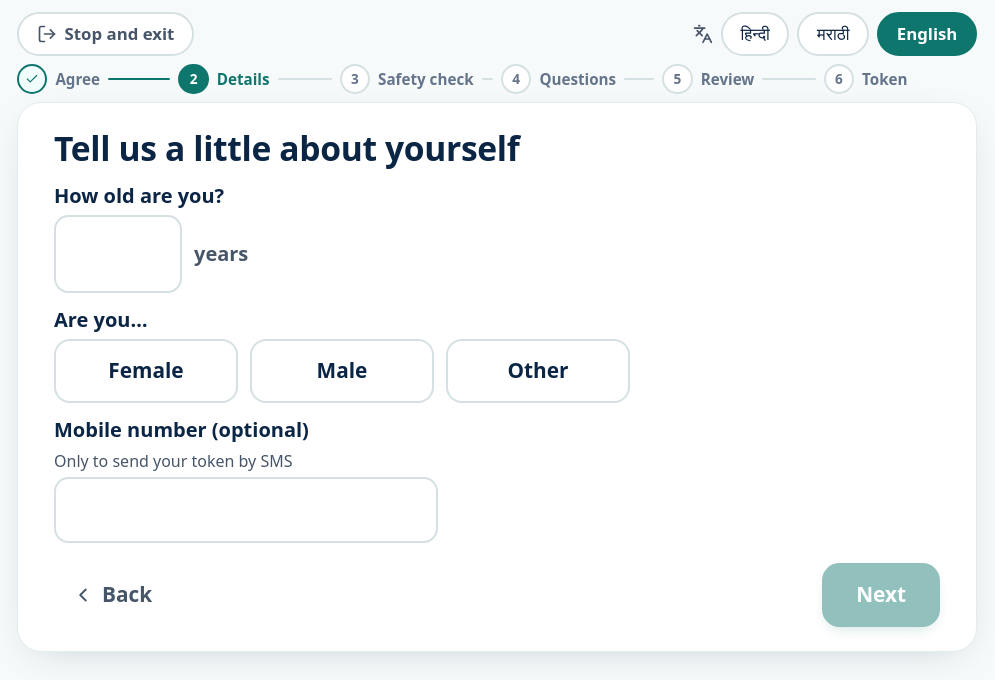
Test: kiosk intake › explains a card that does not match and lets the patient go on without it
The image size is (995, 680).
Type "40" into the number field labelled "How old are you?" at {"x": 118, "y": 254}, box [54,215,182,293]
Click the radio button labelled "Male" at {"x": 342, "y": 371}, box [250,339,434,403]
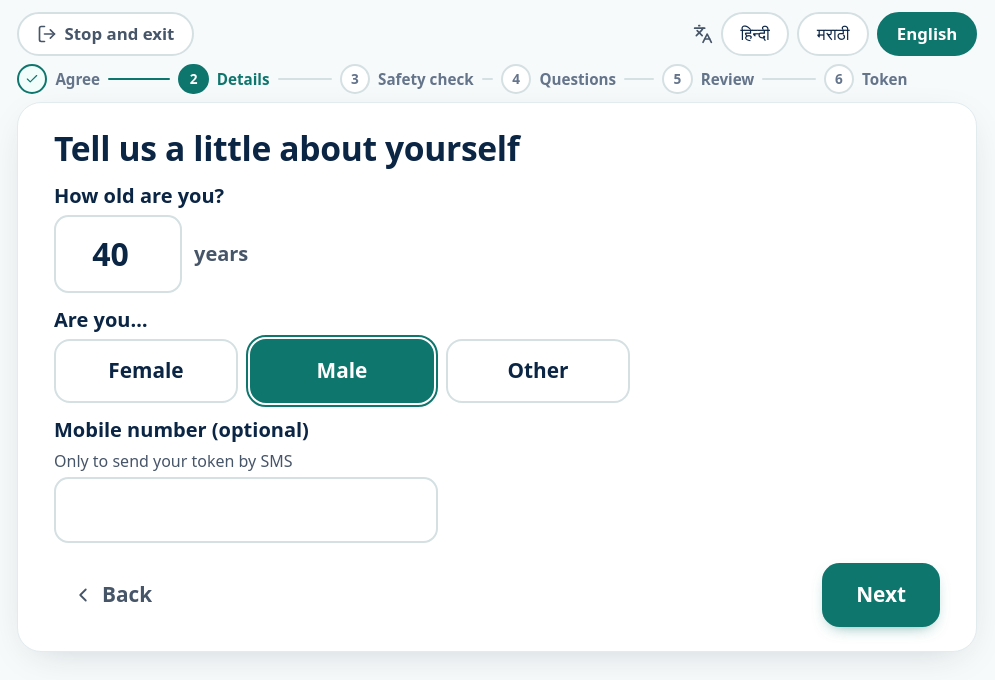
Click the button "Next" at {"x": 881, "y": 595}, box [822,563,940,627]
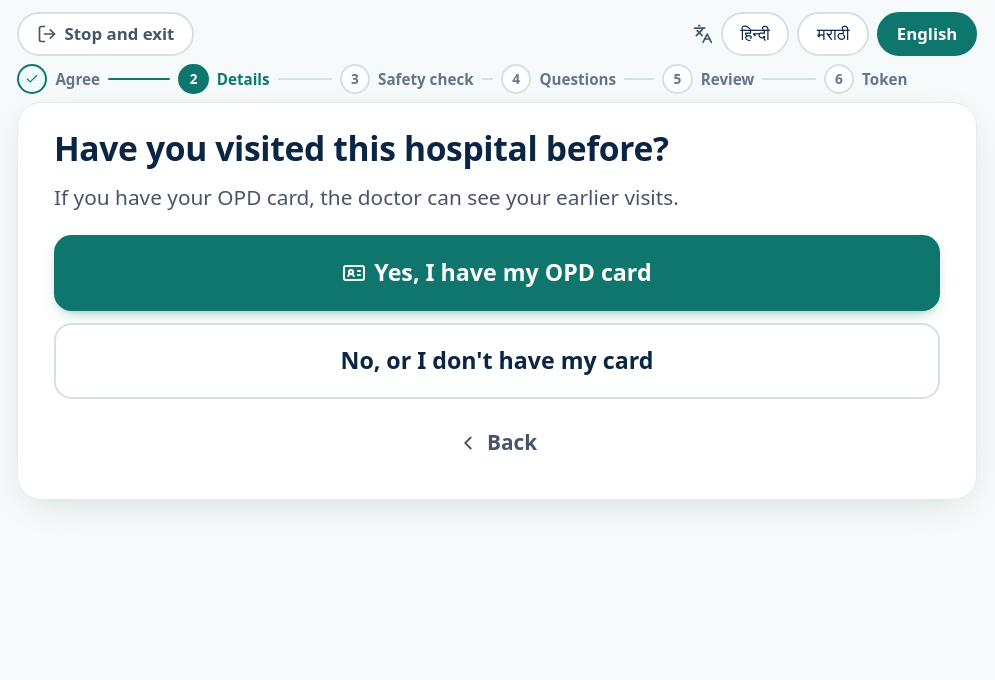
Click the button "Yes, I have my OPD card" at {"x": 497, "y": 273}, box [54,235,940,311]
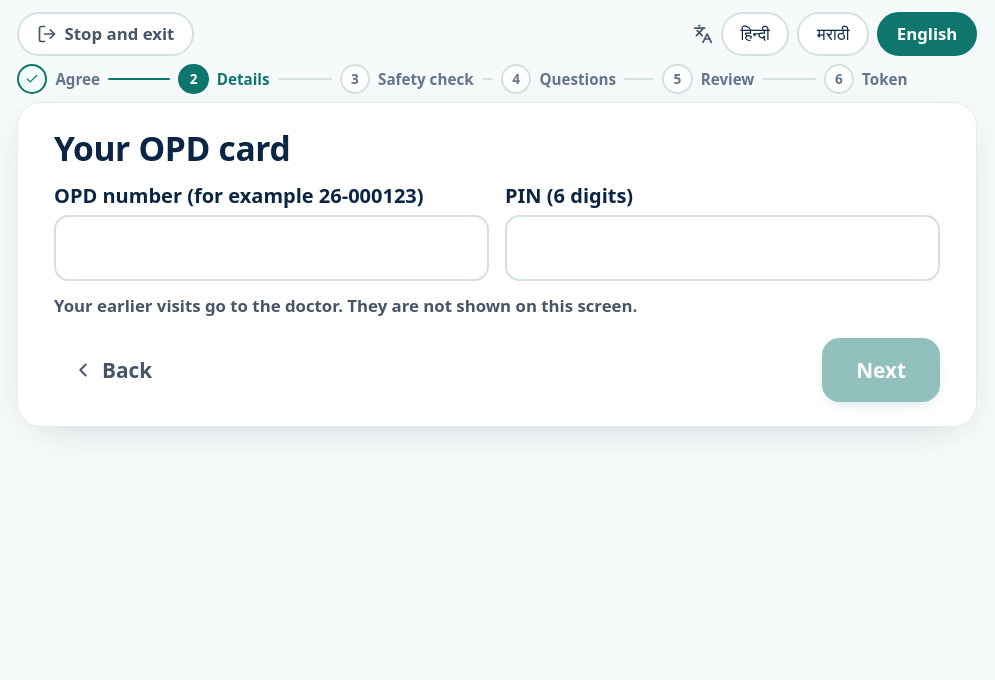
Type "26-000999" into the field labelled "OPD number (for example 26-000123)" at {"x": 272, "y": 248}, box [54,215,489,281]
Type "000000" into the field labelled "PIN (6 digits)" at {"x": 722, "y": 248}, box [505,215,940,281]
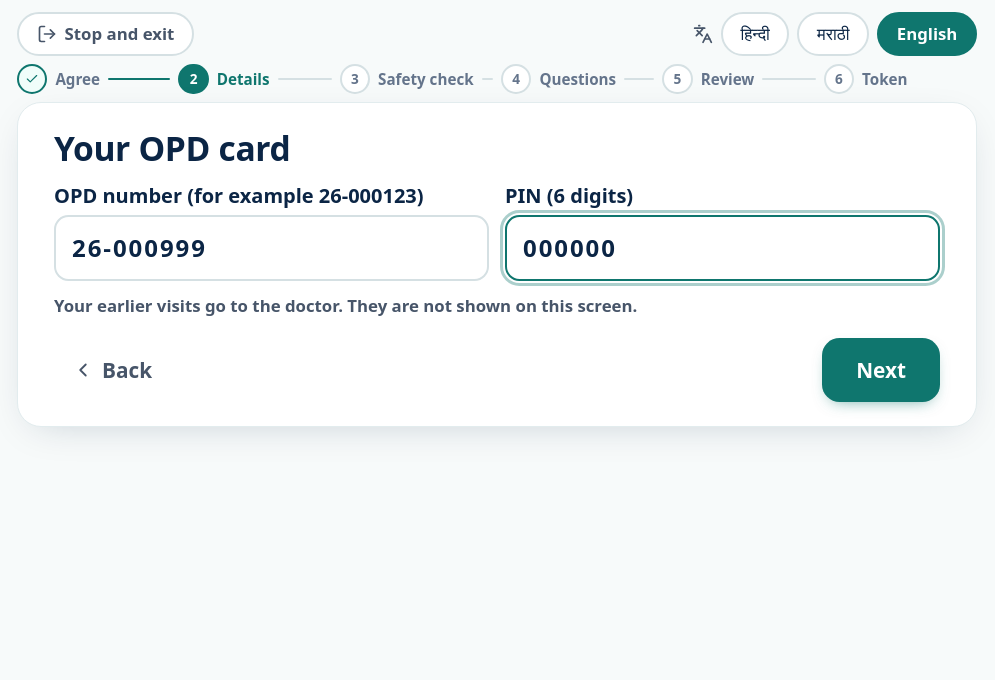
Click the button "Next" at {"x": 881, "y": 370}, box [822,338,940,402]
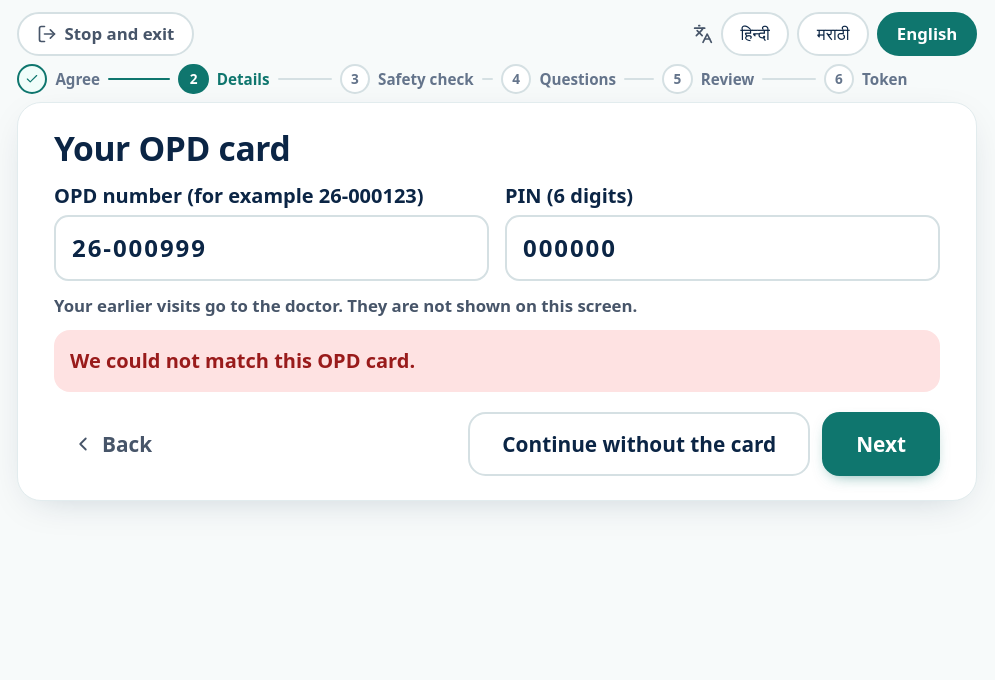
Expected: the text "We could not match this OPD card." is shown, [54,330,940,392]
Click the button "Continue without the card" at {"x": 639, "y": 444}, box [468,412,810,476]
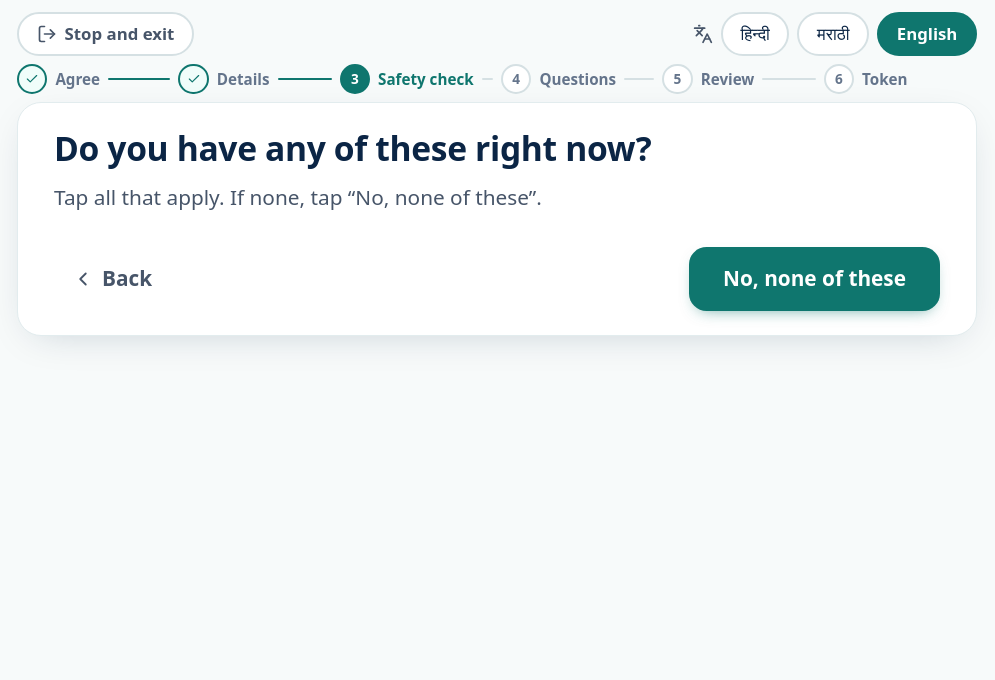
Expected: the heading "Do you have any of these right now?" is shown, [54,125,652,171]
